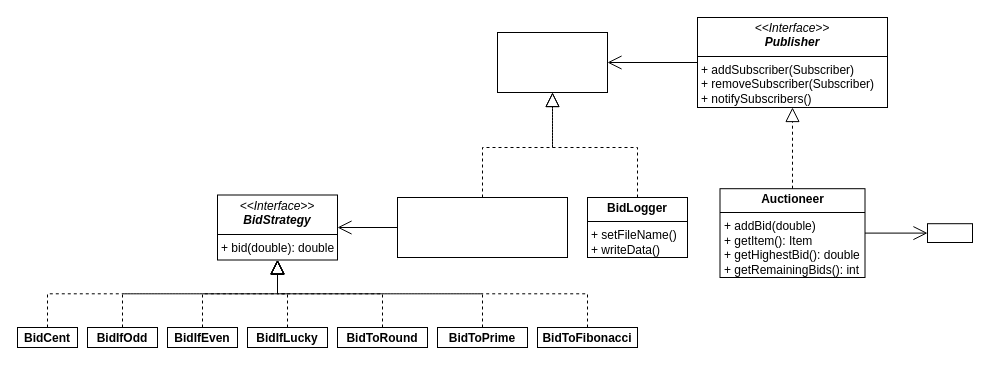
Image size: 990x365. Some labels were removed from this diagram. The shapes that lost their labels are listed below. From the top down, each one's centre as x and y in pixels, then its label:
(552,62): <<Interface>> Subscriber + update(double)
(482,227): Bidder + bid(): double + setBidStrategy(BidStrategy)
(949,232): Item
